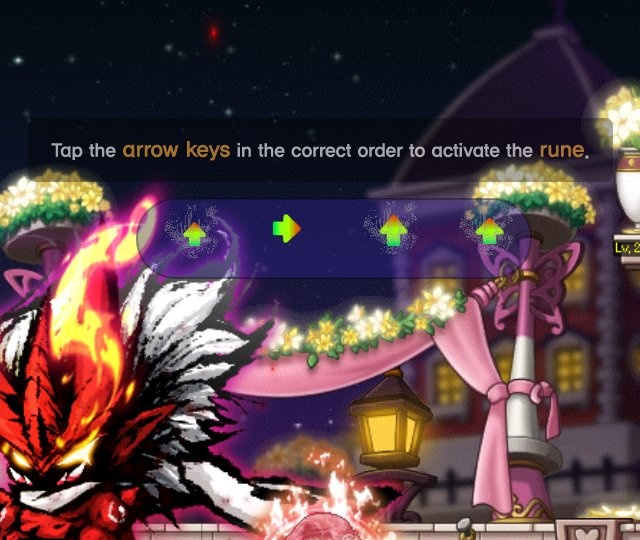rune_box: (128, 187, 545, 290)
